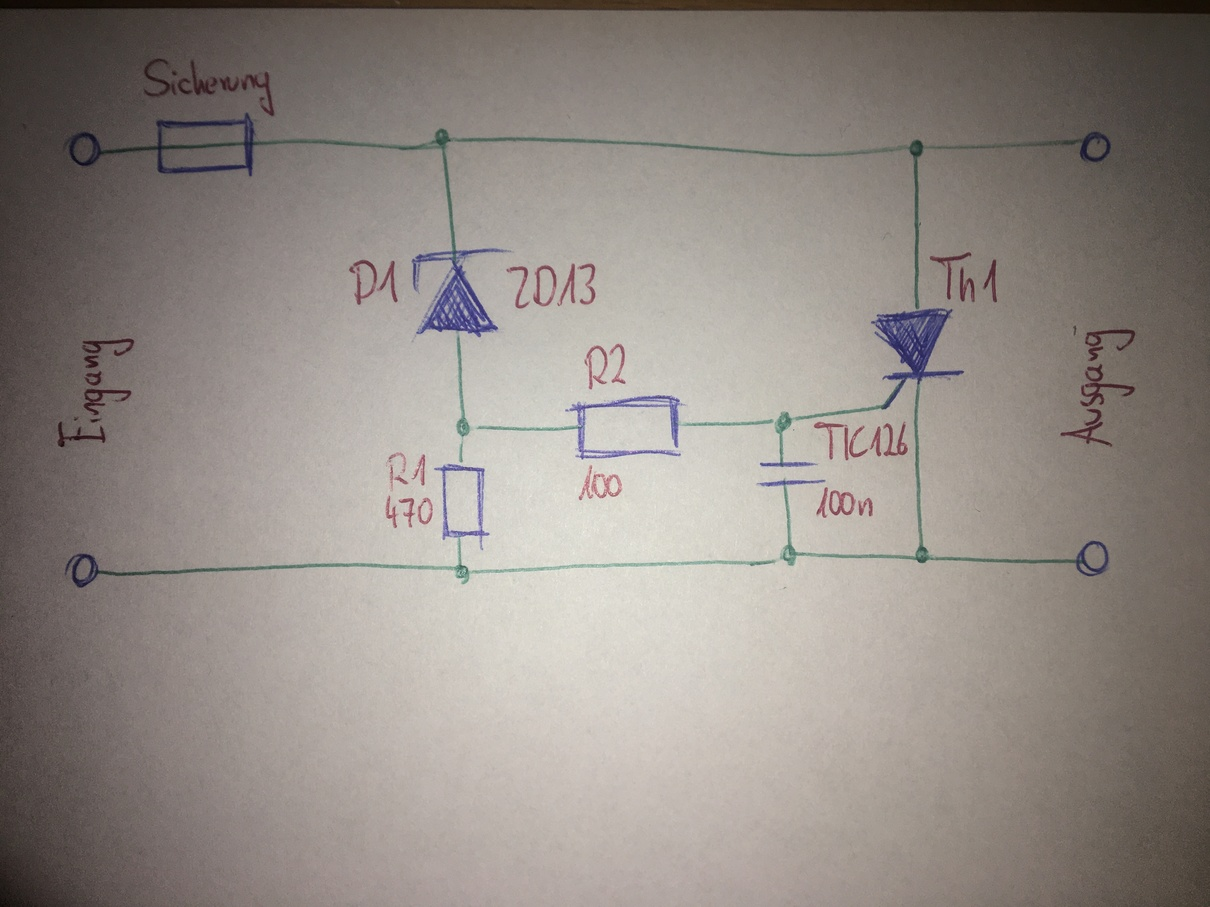capacitor.unpolarized: (754, 457, 829, 490)
diode: (407, 245, 516, 338)
fuse: (152, 112, 260, 179)
junction: (768, 409, 796, 438), (453, 416, 480, 446), (773, 542, 800, 569), (430, 126, 455, 152), (904, 137, 927, 161), (452, 561, 474, 586), (913, 544, 938, 566)
resistor: (564, 393, 687, 462), (431, 458, 491, 552)
terminal: (62, 550, 106, 590), (63, 129, 105, 169), (1072, 538, 1112, 579), (1076, 128, 1113, 165)
text: (1057, 325, 1140, 450), (54, 335, 137, 452), (138, 54, 279, 119), (504, 260, 599, 312), (810, 418, 911, 464), (926, 250, 1001, 305), (346, 255, 404, 308), (581, 339, 629, 392), (811, 484, 876, 522), (381, 492, 436, 531), (384, 450, 431, 495), (576, 462, 624, 504)
thyristor: (869, 305, 966, 413)
